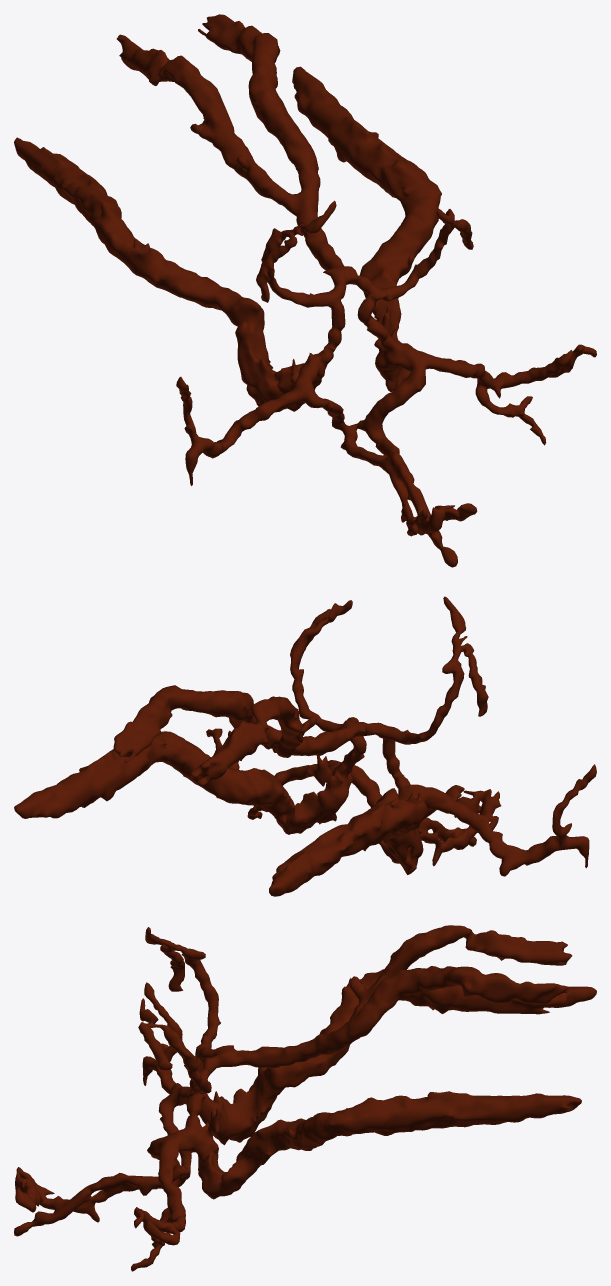
Rendered from Arteries.obj.
The picture shows the model from 3 angles, top to bottom: view 1: azimuth 30°, elevation 25°; view 2: azimuth 150°, elevation 25°; view 3: azimuth 270°, elevation 25°; orthographic projection. The views are drawn at different scales.
Visible parts, largest first — view 1: grp1; view 2: grp1; view 3: grp1.
Part boxes in pixels (<box>): grp1: <box>14,14,596,567</box>; grp1: <box>14,596,596,896</box>; grp1: <box>14,925,596,1271</box>.
Bounding box in the file's own units: 86.89 × 67.38 × 119.
